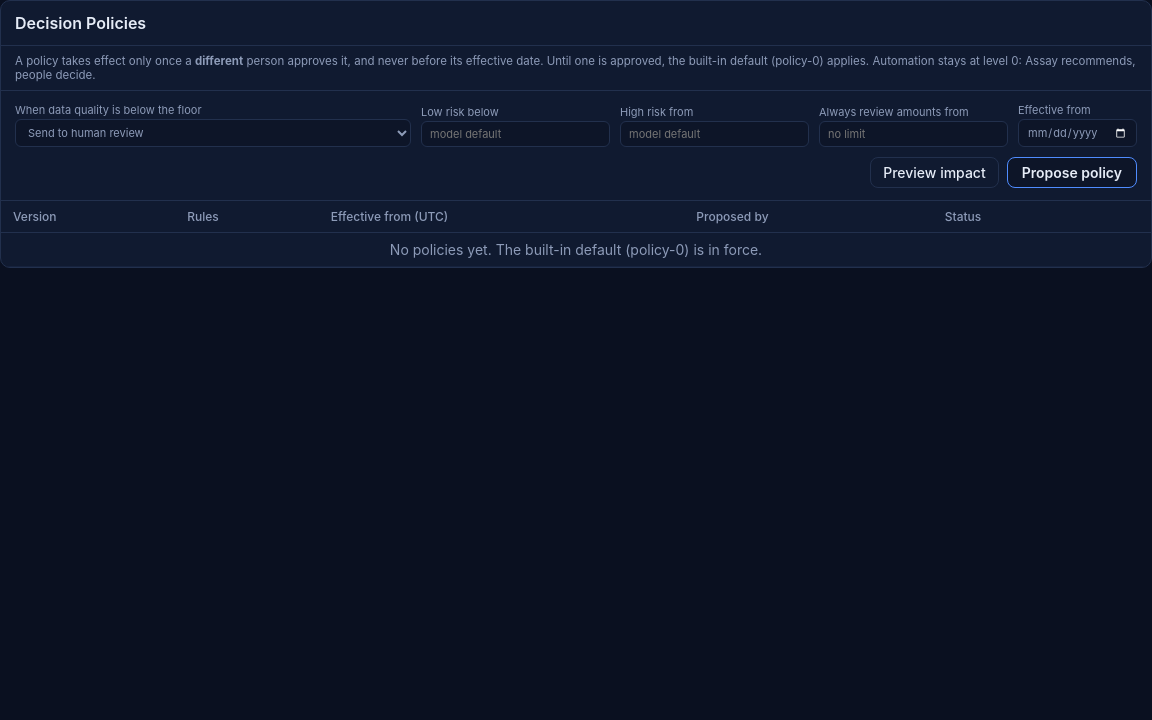
Test: PolicyPanel preview › clears a preview as soon as the form changes, so it never describes a different policy
expect the text "No policies yet" is shown: met, box [390,241,762,258]
Step 1. Click the button "Preview impact" → (934, 172), box [870,157,999,188]
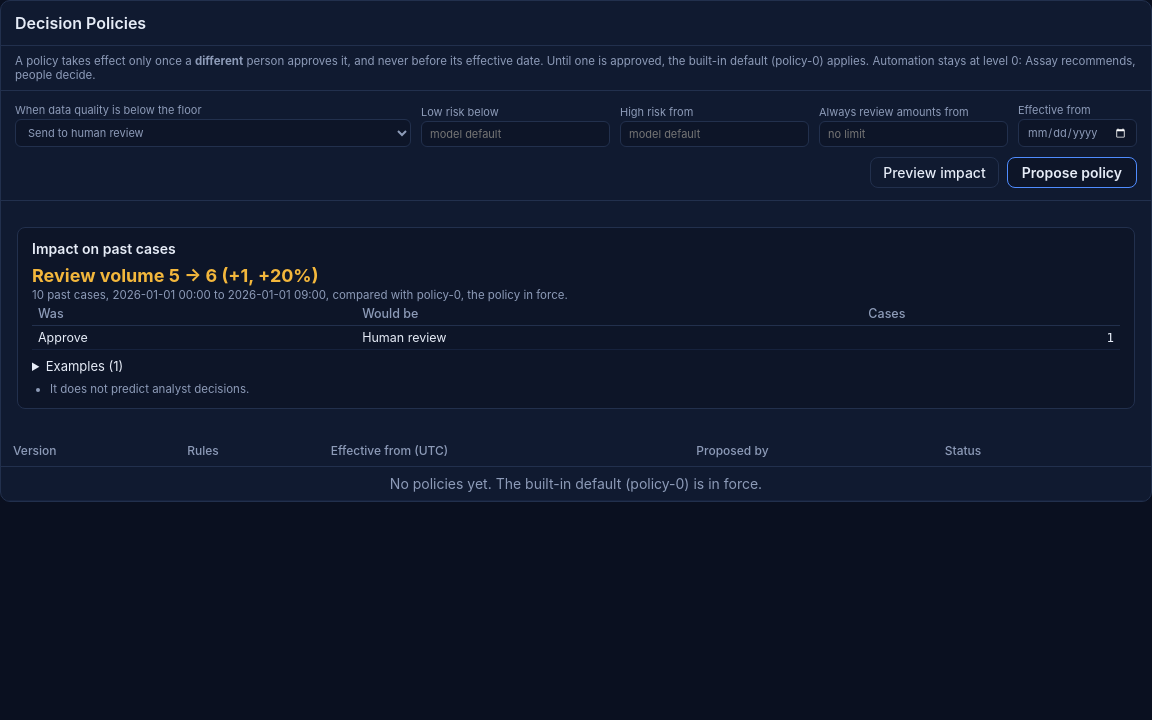
expect the element with test id "policy-preview" is shown: met, box [17,227,1135,409]
Step 2. Type "100" into the field labelled "Always review amounts from" → (914, 134), box [819,121,1008,147]
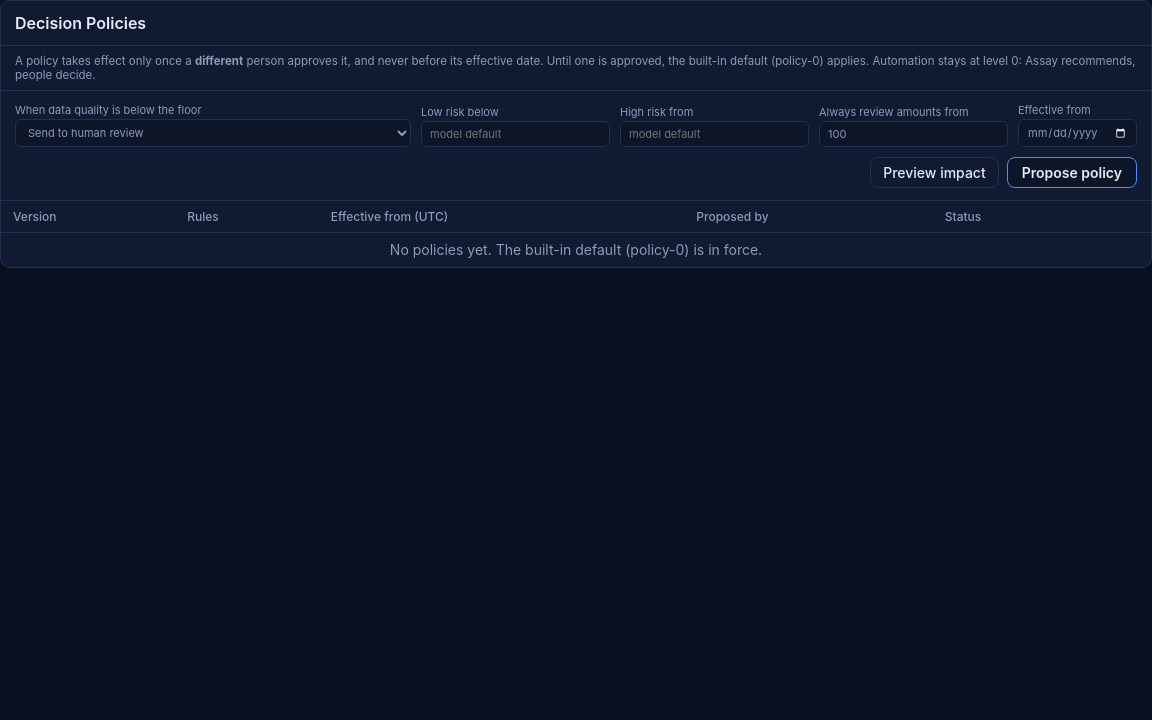
expect the element with test id "policy-preview" is gone: met
